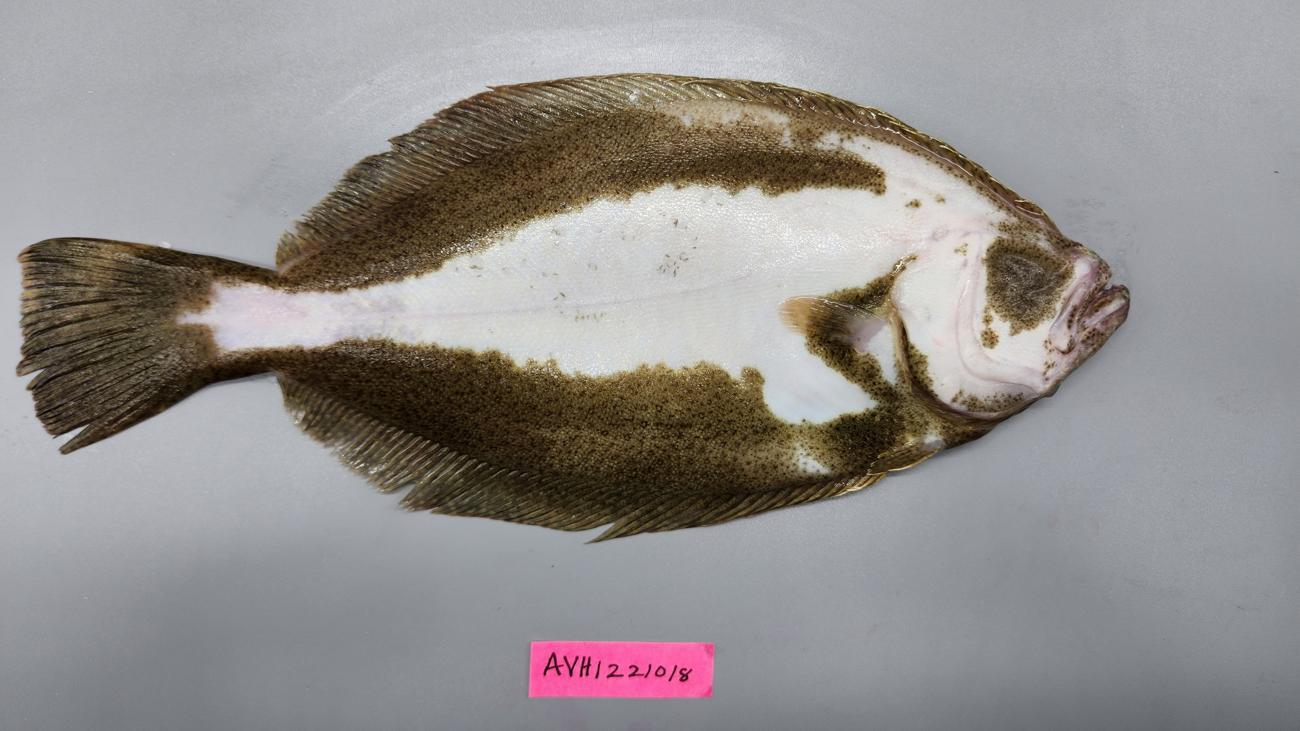VIDYH: (276, 352, 555, 465), (666, 121, 793, 160)
VIOUY: (19, 71, 1132, 543)
